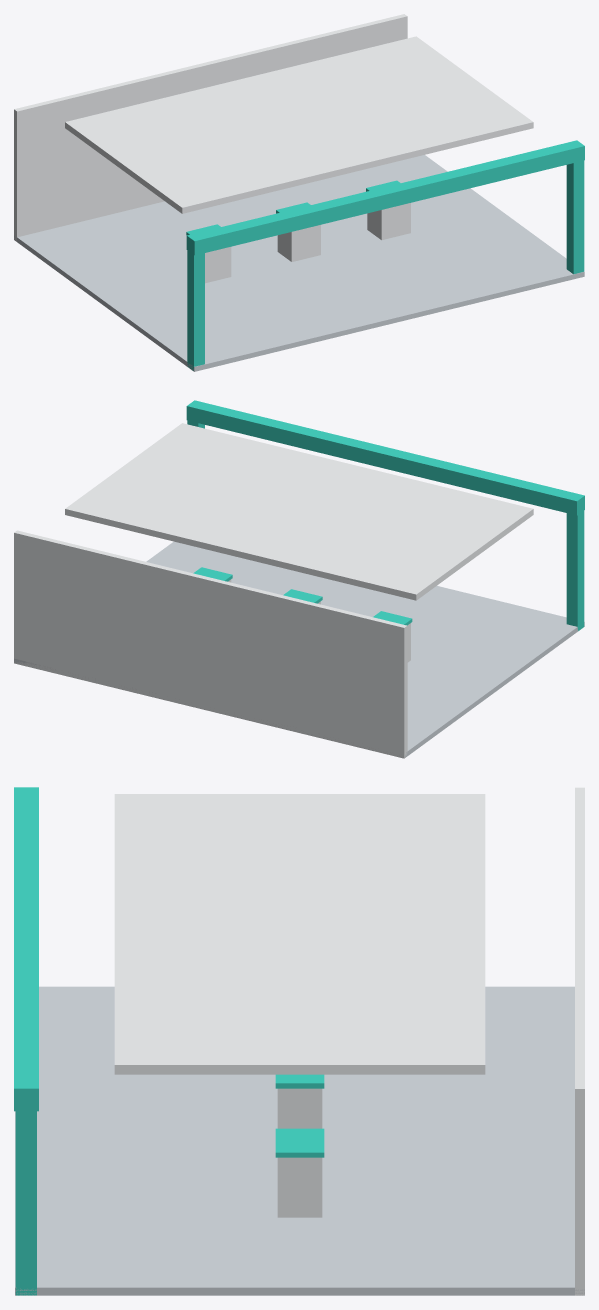
3 views of the same model, one above another, from view 1: azimuth 30°, elevation 25°; view 2: azimuth 150°, elevation 25°; view 3: azimuth 270°, elevation 25° (orthographic). The views are drawn at different scales.
Visible parts, largest first — view 1: Exhibition Booth Concept; view 2: Exhibition Booth Concept; view 3: Exhibition Booth Concept.
Boxes of the visible parts, x1,y1,x2,y2 form: Exhibition Booth Concept: [14, 14, 584, 371]; Exhibition Booth Concept: [14, 400, 584, 758]; Exhibition Booth Concept: [14, 787, 584, 1295].
Bounding box in the file's own units: 10 × 3.34 × 8.01.
